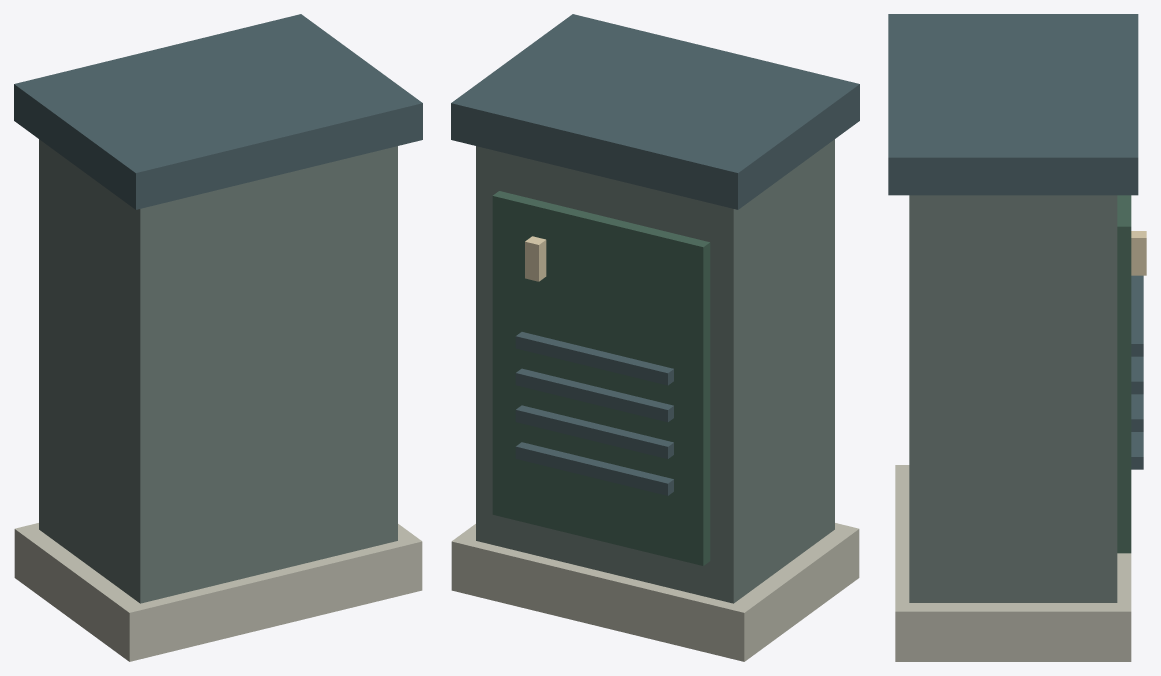
File: KOL_HBR_PROP_12.fbx
3 views of the same model, side by side, from view 1: azimuth 30°, elevation 25°; view 2: azimuth 150°, elevation 25°; view 3: azimuth 270°, elevation 25° (orthographic). The views are drawn at different scales.
Parts seen in each view (by area): view 1: KOL_HBR_PROP_12__Model__Roof, KOL_HBR_PROP_12__Model__DarkSteel, KOL_HBR_PROP_12__Model__Concrete; view 2: KOL_HBR_PROP_12__Model__Roof, KOL_HBR_PROP_12__Model__DarkSteel, KOL_HBR_PROP_12__Model__Green, KOL_HBR_PROP_12__Model__Concrete, KOL_HBR_PROP_12__Model__Cream; view 3: KOL_HBR_PROP_12__Model__Roof, KOL_HBR_PROP_12__Model__DarkSteel, KOL_HBR_PROP_12__Model__Concrete, KOL_HBR_PROP_12__Model__Green, KOL_HBR_PROP_12__Model__Cream.
Boxes of the visible parts, bbox=[...] form: KOL_HBR_PROP_12__Model__Roof: bbox=[39, 139, 397, 603]; KOL_HBR_PROP_12__Model__DarkSteel: bbox=[14, 14, 422, 209]; KOL_HBR_PROP_12__Model__Concrete: bbox=[14, 523, 422, 661]; KOL_HBR_PROP_12__Model__Roof: bbox=[476, 139, 834, 603]; KOL_HBR_PROP_12__Model__DarkSteel: bbox=[451, 14, 859, 495]; KOL_HBR_PROP_12__Model__Green: bbox=[492, 191, 710, 565]; KOL_HBR_PROP_12__Model__Concrete: bbox=[451, 523, 859, 661]; KOL_HBR_PROP_12__Model__Cream: bbox=[525, 236, 546, 281]; KOL_HBR_PROP_12__Model__Roof: bbox=[909, 195, 1117, 602]; KOL_HBR_PROP_12__Model__DarkSteel: bbox=[888, 14, 1143, 469]; KOL_HBR_PROP_12__Model__Concrete: bbox=[895, 465, 1131, 661]; KOL_HBR_PROP_12__Model__Green: bbox=[1117, 195, 1131, 553]; KOL_HBR_PROP_12__Model__Cream: bbox=[1131, 231, 1146, 275].
Size of the model in its own units: 2.5 by 4 by 1.86.
